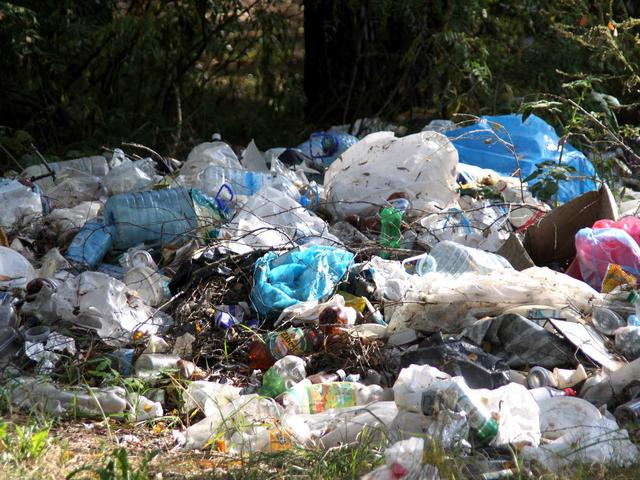garbage: (26, 169, 608, 437)
